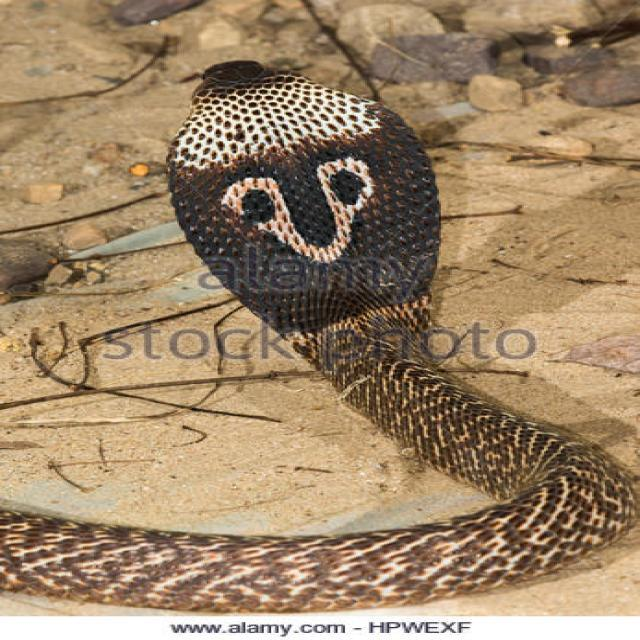Snake: (0, 58, 638, 613)
